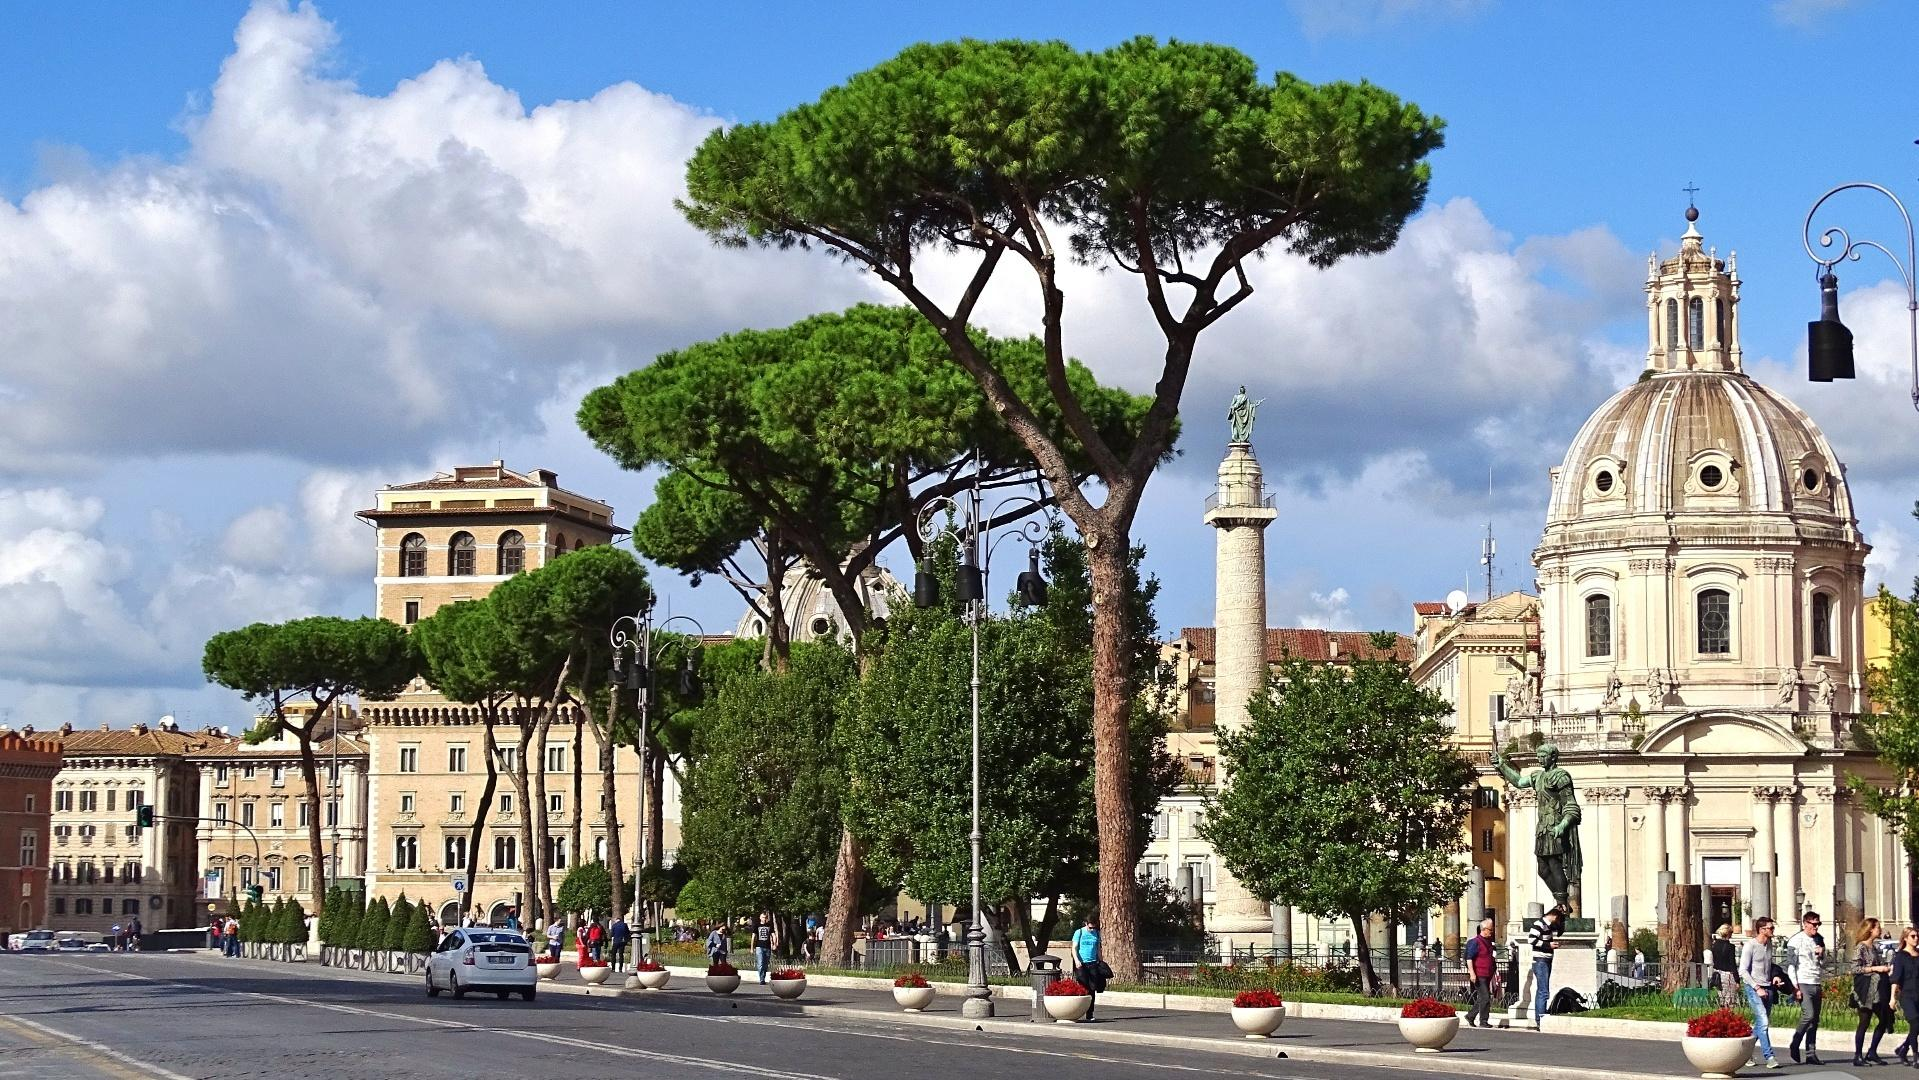plastic-bottles: (1480, 1067, 1900, 1080)
